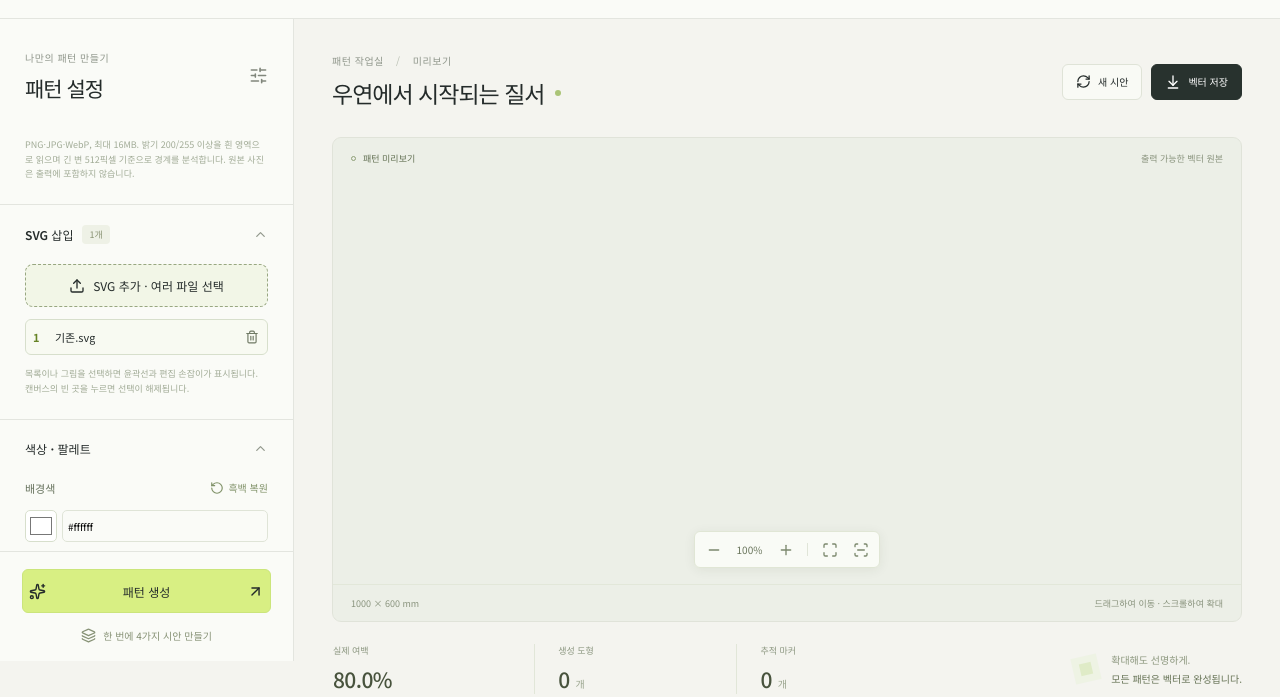
복수 SVG 설정 화면 › 수동 모드에서는 회전 즉시 저장을 막고 재생성 완료 후 다시 허용한다
(page scrolled)
Click the button with class "artwork-select" at (132, 337), box [26, 320, 237, 354]
(page scrolled)
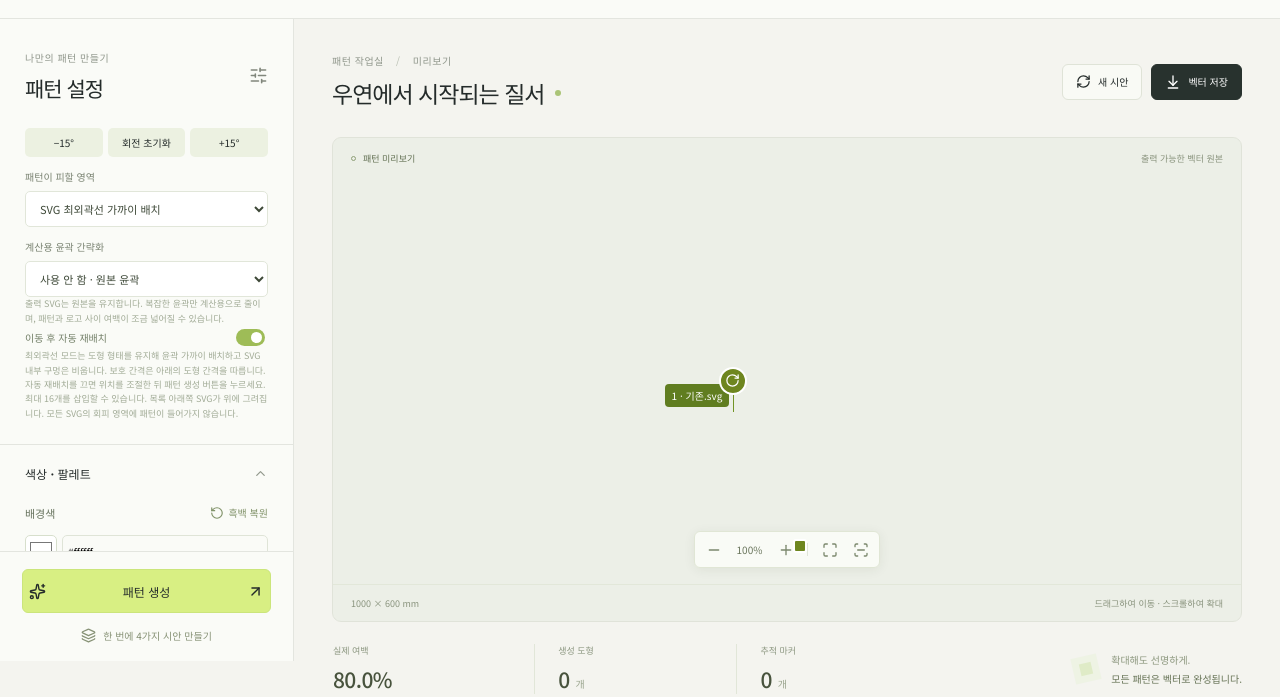
Click the checkbox labelled "이동 후 자동 재배치" at (250, 338), box [236, 329, 265, 346]
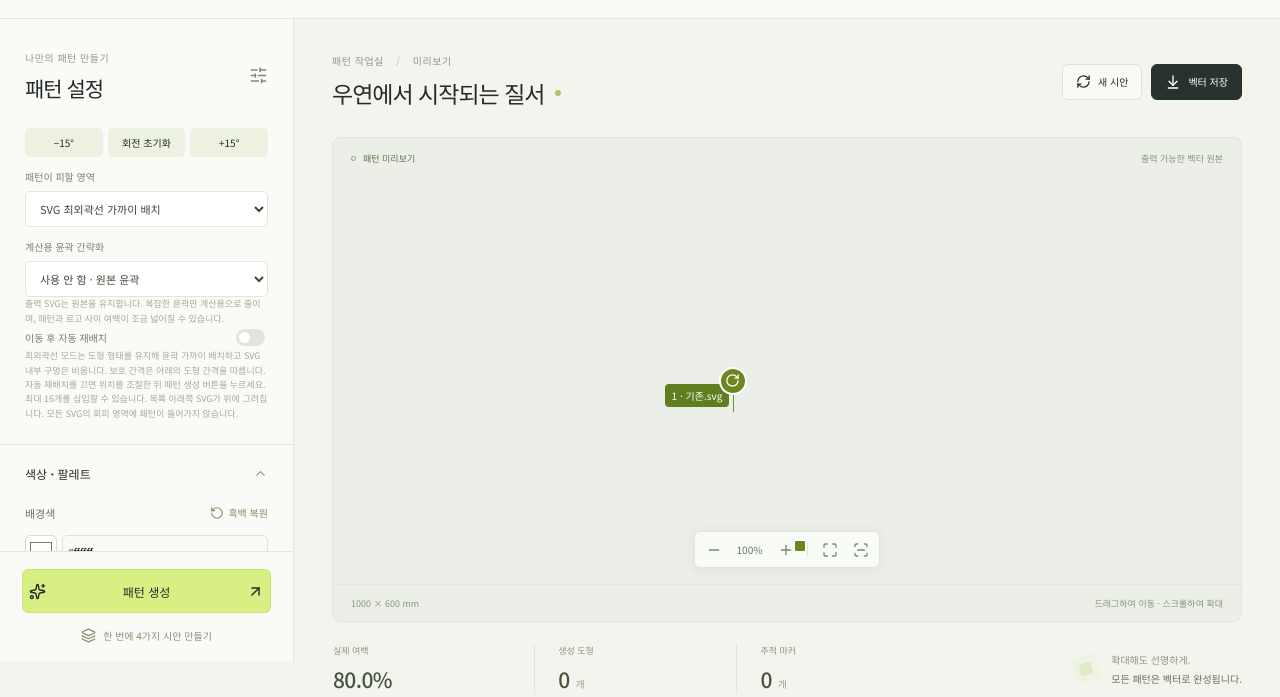
Expected: the button "+15°" is shown
Click the button "+15°" at (229, 143), box [190, 128, 268, 157]
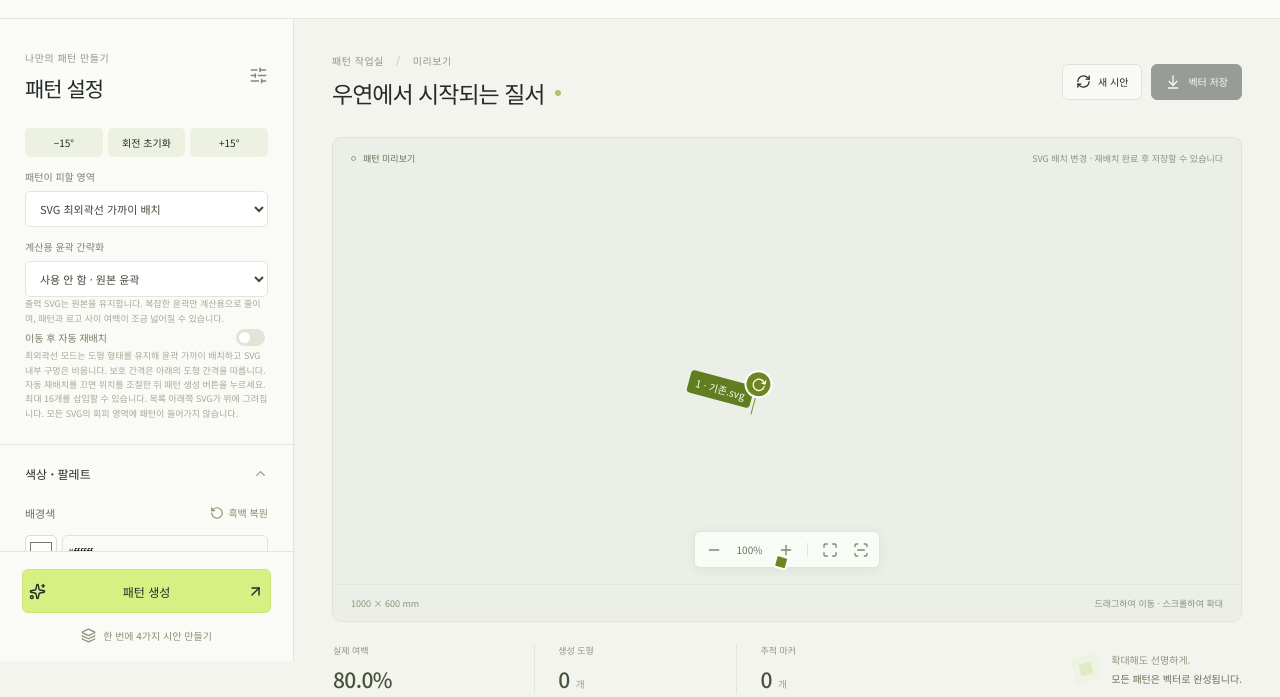
Expected: the button "벡터 저장" is disabled, [1151, 64, 1242, 100]
Click the button "패턴 생성" at (146, 591), box [22, 569, 271, 613]
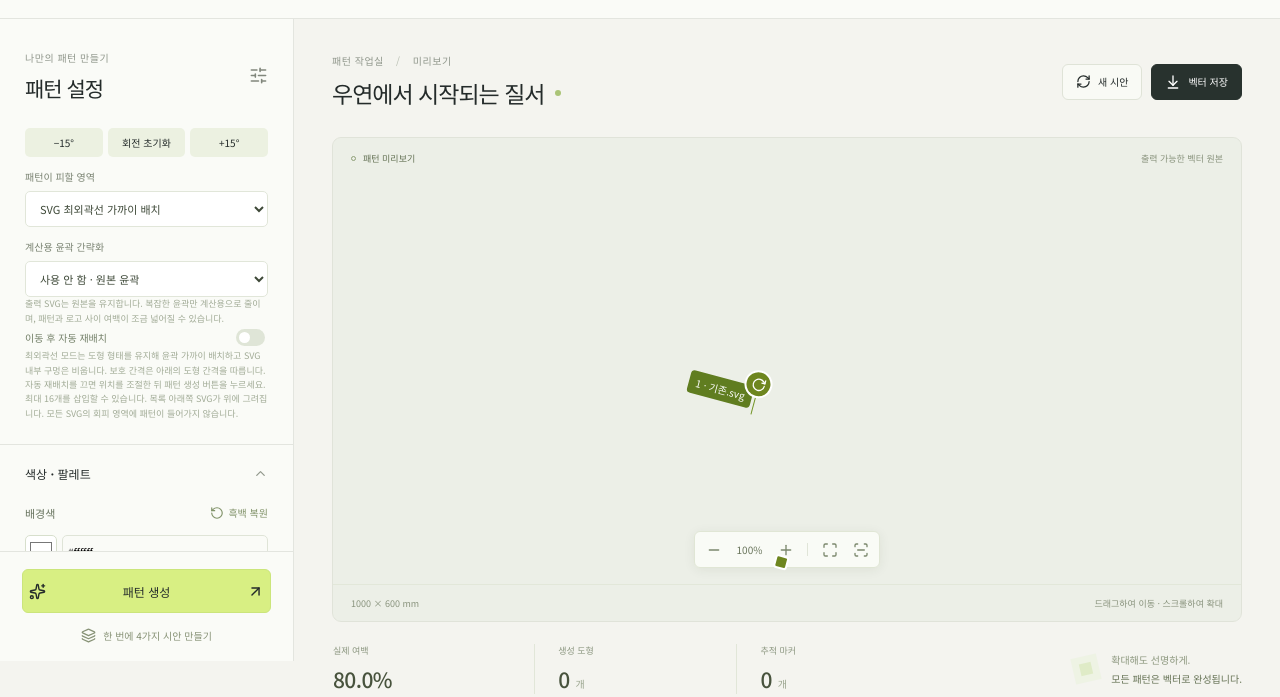
Expected: the button "벡터 저장" is enabled, [1151, 64, 1242, 100]
